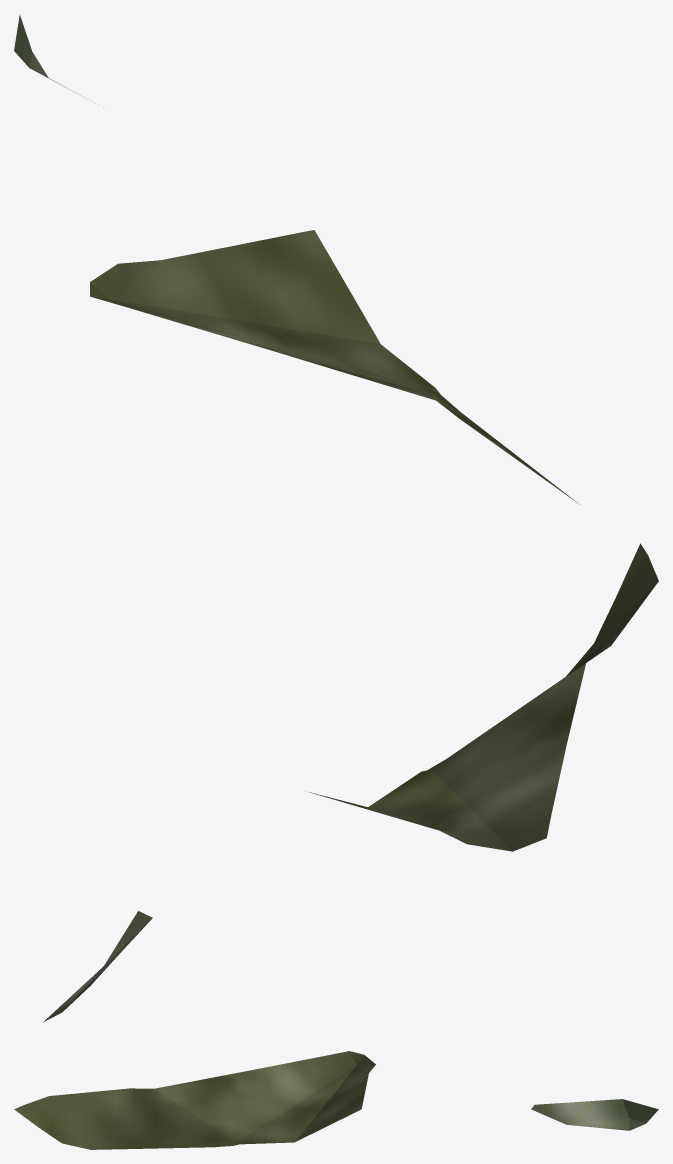
3 renders of one model, top to bottom at view 1: azimuth 30°, elevation 25°; view 2: azimuth 150°, elevation 25°; view 3: azimuth 270°, elevation 25°, orthographic. The views are drawn at different scales.
Bounding box in the file's own units: 0.3218 × 0.1045 × 1.5.
1 material, 1 textured.
